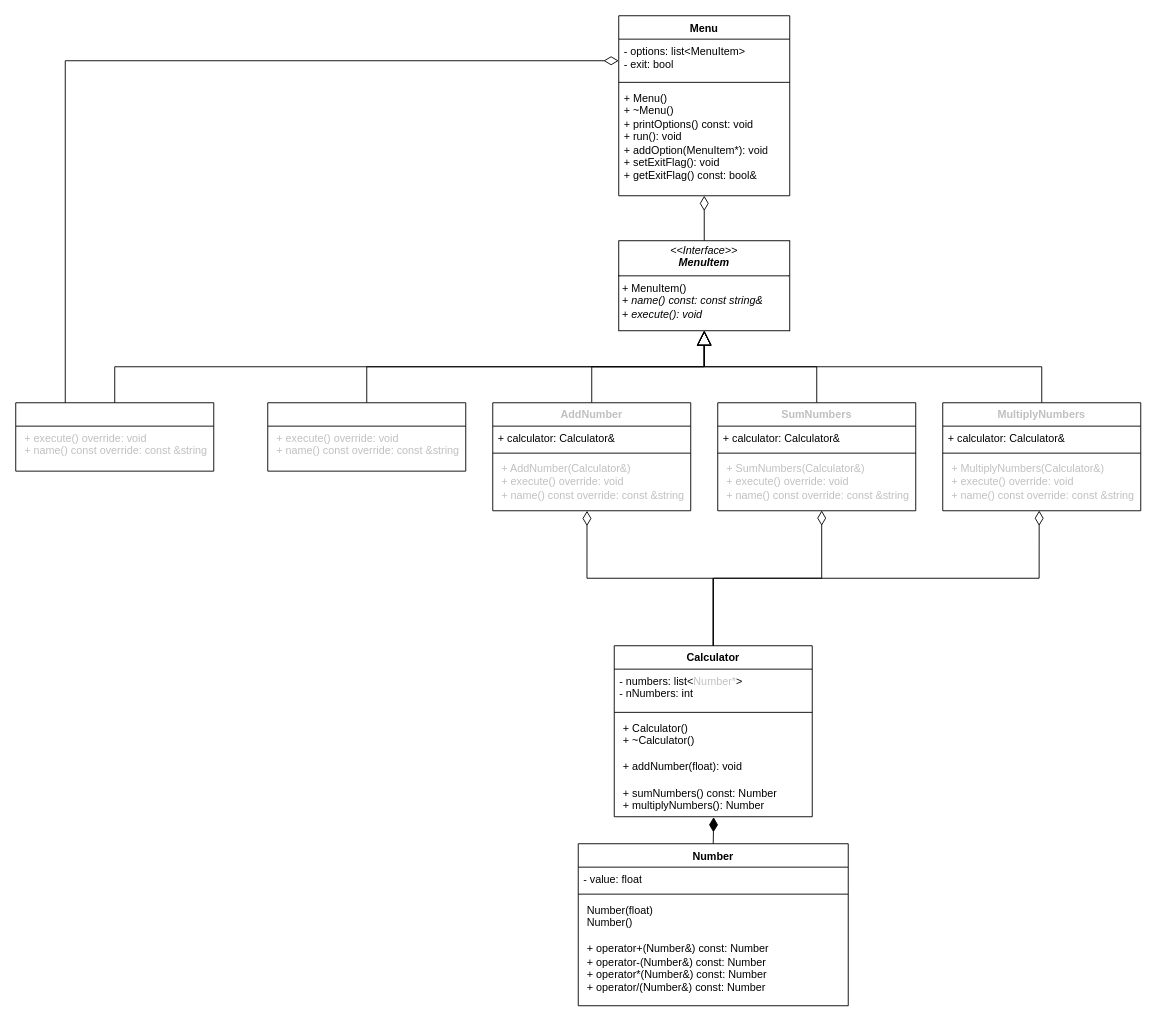
Image size: 1157x1024. Some labels were removed from this diagram. Each missing label, with the box of its shape:
Exit: (15, 402, 214, 471)
HelloWorld: (267, 402, 466, 471)
